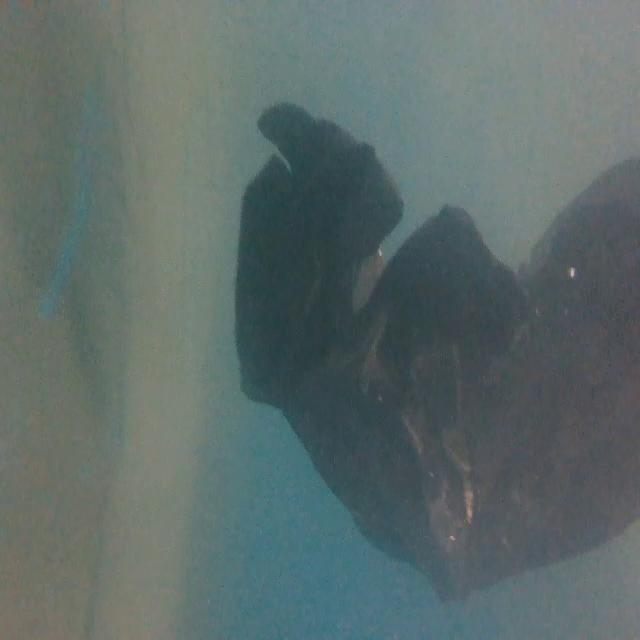plastic bags: (227, 99, 640, 601)
